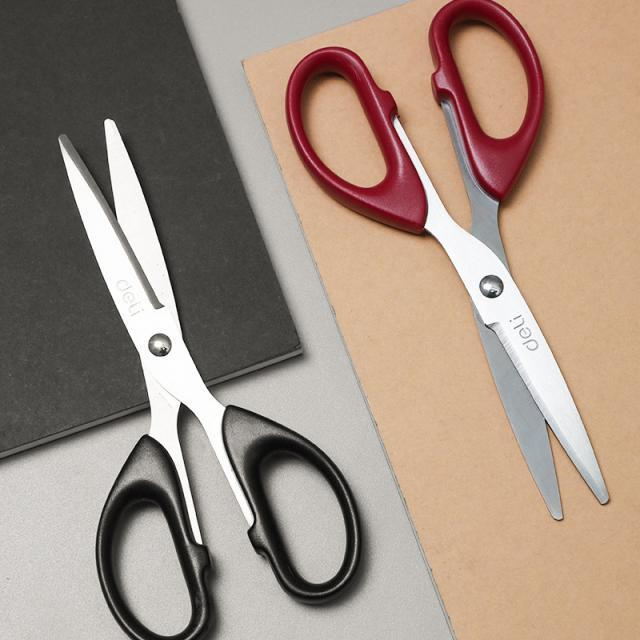scissors: (1, 61, 376, 640), (258, 1, 640, 500)
